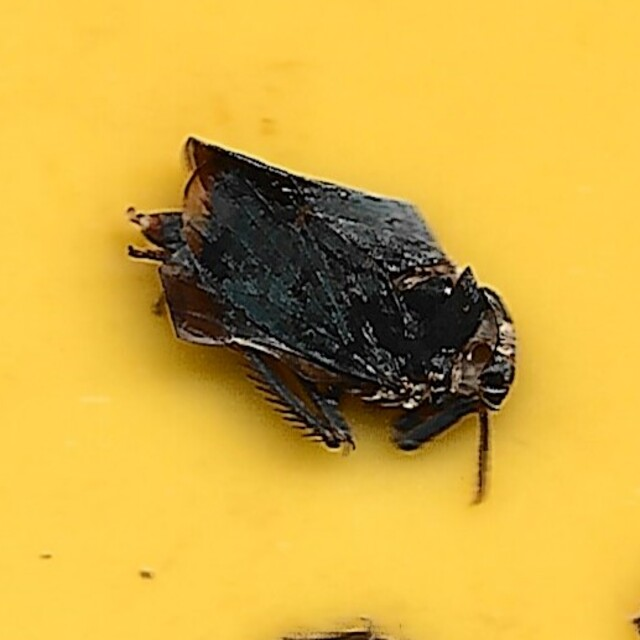Hemiptera: (124, 135, 516, 505)
